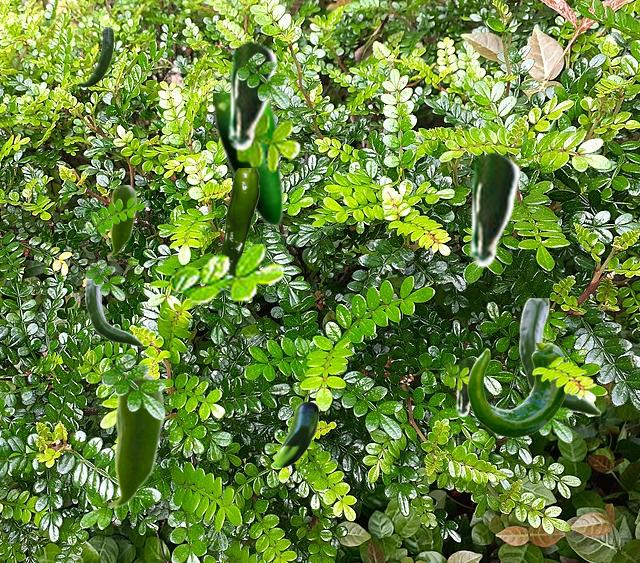green_chili: (519, 298, 600, 414), (213, 93, 283, 226), (467, 343, 565, 436), (107, 375, 162, 508), (466, 151, 520, 267), (225, 40, 277, 150), (85, 263, 142, 345), (220, 168, 258, 273), (272, 402, 317, 467), (76, 27, 113, 86), (106, 185, 135, 256), (454, 357, 476, 416)
